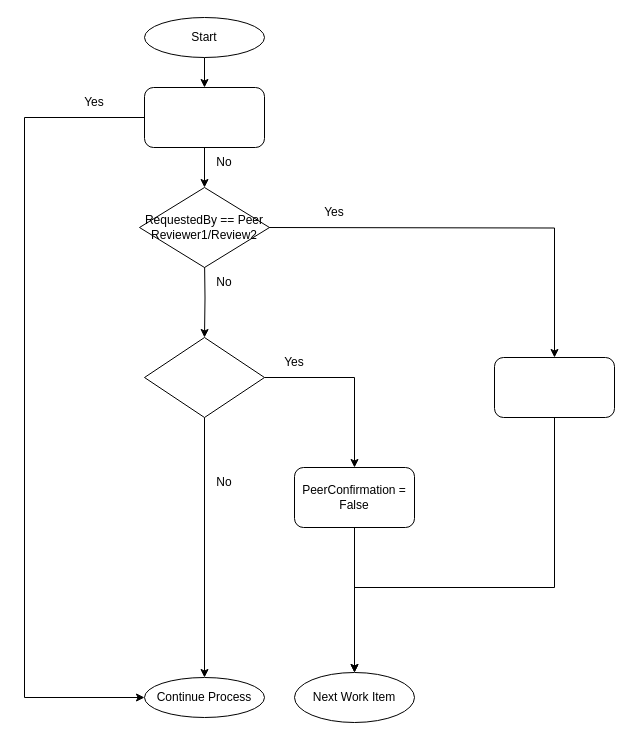
This 632x740 diagram has some shape labels left out. Here are the shapes that lost their labels. From the top down, the centre of each, then its label:
the point at 204,117: IsSuperUser
the point at 204,377: Not PeerReviewer Confirm
the point at 554,387: Clear Reviewer1/Reviewer2
